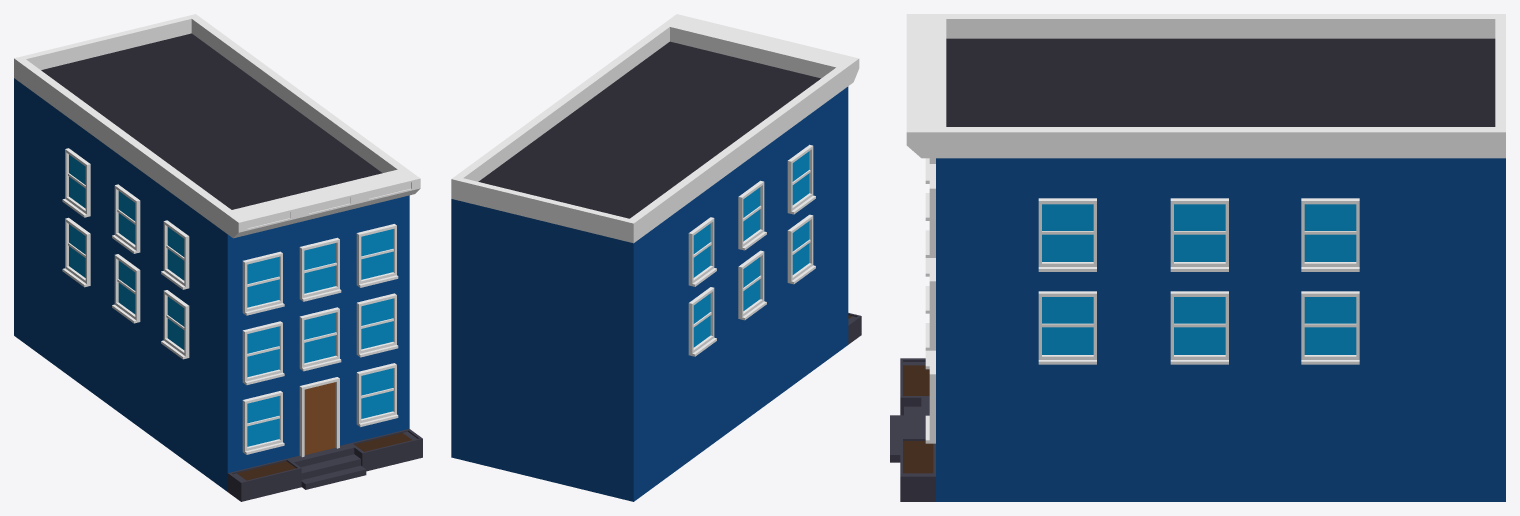
Rendered from Building_17.fbx.
The picture shows the model from 3 angles, left to right: view 1: azimuth 30°, elevation 25°; view 2: azimuth 150°, elevation 25°; view 3: azimuth 270°, elevation 25°; orthographic projection. The views are drawn at different scales.
Visible parts, largest first — view 1: B17; view 2: B17; view 3: B17.
Boxes of the visible parts, bbox=[...] form: B17: bbox=[14, 14, 422, 501]; B17: bbox=[451, 14, 861, 501]; B17: bbox=[890, 14, 1505, 501].
Bounding box in the file's own units: 10.25 × 13.96 × 21.07.
1 material, 1 textured.
